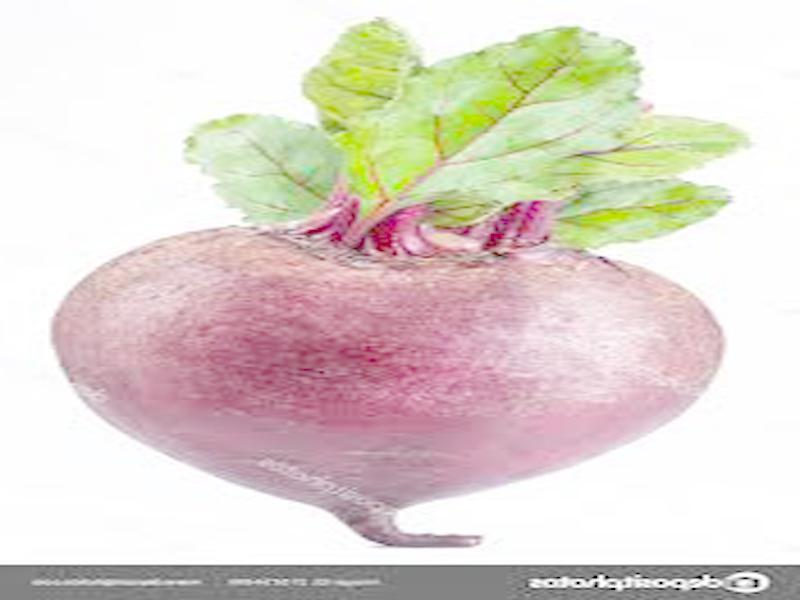Beet: (49, 19, 749, 544)
